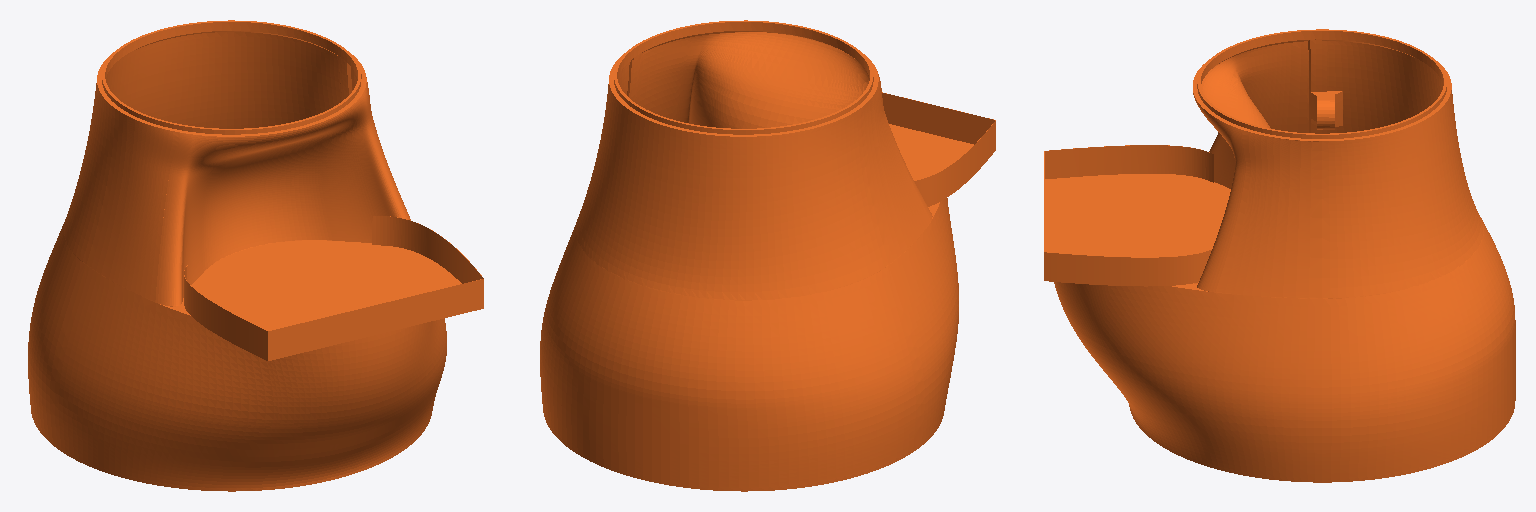
robot.urdf — cartographer_backpack_2d:
<?xml version="1.0"?>

<robot name="cartographer_backpack_2d">
  <material name="orange">
    <color rgba="1.0 0.5 0.2 1" />
  </material>
  <material name="gray">
    <color rgba="0.2 0.2 0.2 1" />
  </material>
<material name="blue">
 <color rgba="0 0 0.8 1"/>
</material>

  <link name="laser">
    <visual>
      <origin xyz="0 0 0" />
      <geometry>
        <cylinder length="0.02" radius="0.04" />
      </geometry>
      <material name="blue" />
    </visual>
  </link>


<link name="base_link">
     <visual>
      <origin rpy="0 0 0" xyz="0 0 0"/>
     <geometry>
         <mesh filename="package://urdf_tutorial/meshes/robot_sim.stl"/>
	</geometry>
	<material name="orange" />
     </visual>
</link>

  <joint name="laser_joint" type="fixed">
    <parent link="base_link" />
    <child link="laser" />
    <origin xyz="-0.01 0 0.160" rpy="0.0 0.0 0"/>
  </joint>
<!-- Waist link -->
<link name="updatedtray">
  <visual>
    <origin rpy="0 0 0" xyz="0 0 0"/>
    <geometry>
      <mesh filename="package://urdf_tutorial/meshes/updatedtray.stl"/>
    </geometry>
    <material name="orange"/>
  </visual>
</link>

<!-- Waist joint - attach waist to base -->
<joint name="waist_joint" type="fixed">
  <parent link="base_link"/>
  <child link="updatedtray"/>
  <origin xyz="0 0 0" rpy="0 0 0"/>
</joint>


</robot>

--- Facts derived from the render (not from the file) ---
Views: 3 orthographic renders of the robot side by side, from view 1: azimuth 30°, elevation 25°; view 2: azimuth 150°, elevation 25°; view 3: azimuth 270°, elevation 25°.
Robot: cartographer_backpack_2d — 3 links, 2 joints (2 fixed); root link base_link; default pose: all joints at 0.
Links seen in each view (by area): view 1: updatedtray; view 2: updatedtray; view 3: updatedtray.
Link boxes in pixels (x1=…): updatedtray: x1=28, y1=20, x2=483, y2=491; updatedtray: x1=540, y1=20, x2=995, y2=491; updatedtray: x1=1044, y1=29, x2=1515, y2=482.
Size in the robot's own frame: 24728 by 29603 by 22100 metres.
Meshes: 2 distinct files referenced, 1 mesh visuals loaded (1 binary STL); not drawn: 1 (reference not matched to a file when rendering).
